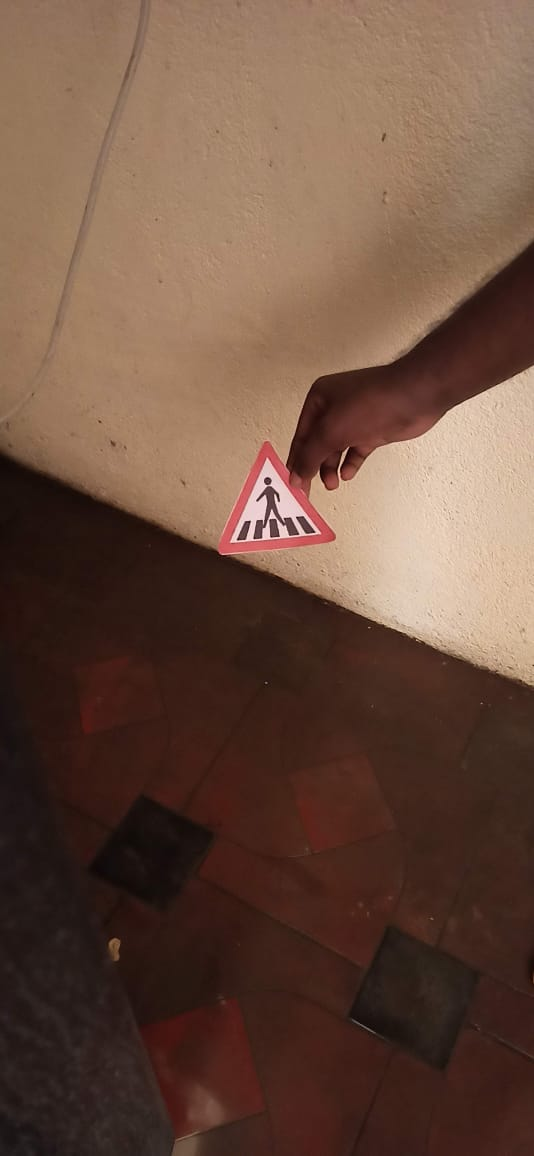PEDESTRIAN CROSSING: (209, 443, 352, 560)
